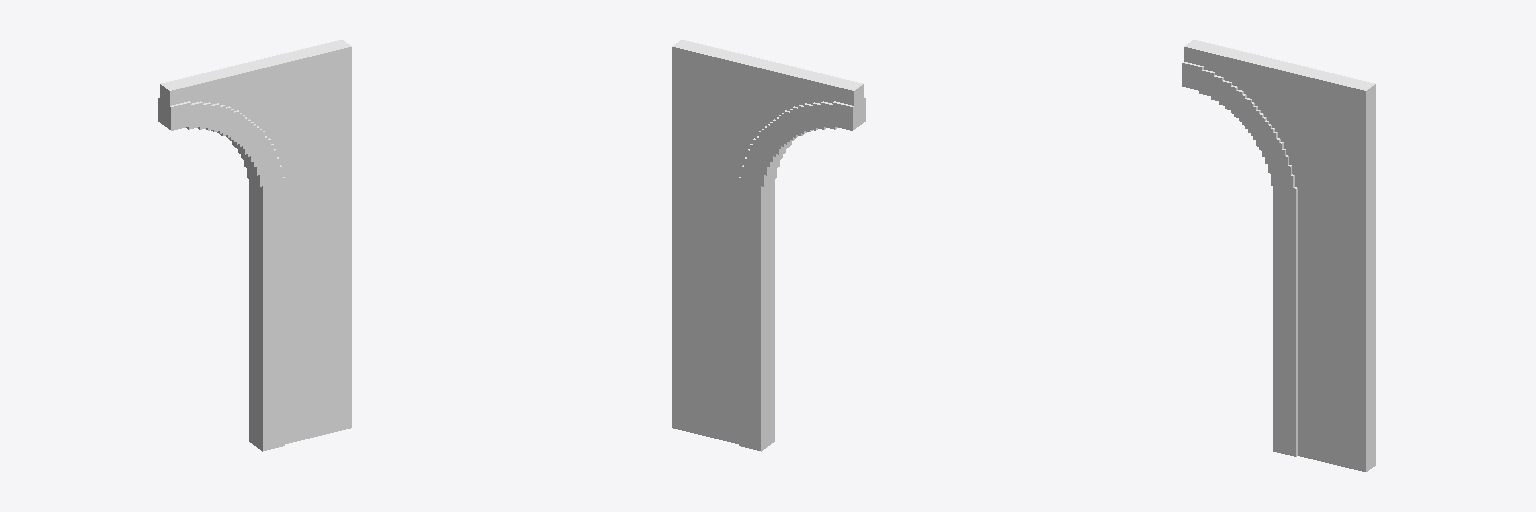
Rendered from Doorway_1.obj.
3 renders of one model, left to right at view 1: azimuth 30°, elevation 25°; view 2: azimuth 150°, elevation 25°; view 3: azimuth 330°, elevation 25°, orthographic.
Visible parts, largest first — view 1: Doorway_1_-9; view 2: Doorway_1_-9; view 3: Doorway_1_-9.
Boxes of the visible parts, x1=… form: Doorway_1_-9: x1=158, y1=40, x2=351, y2=451; Doorway_1_-9: x1=672, y1=40, x2=865, y2=451; Doorway_1_-9: x1=1182, y1=40, x2=1375, y2=471.
Size of the model in its own units: 1 by 2 by 0.125.